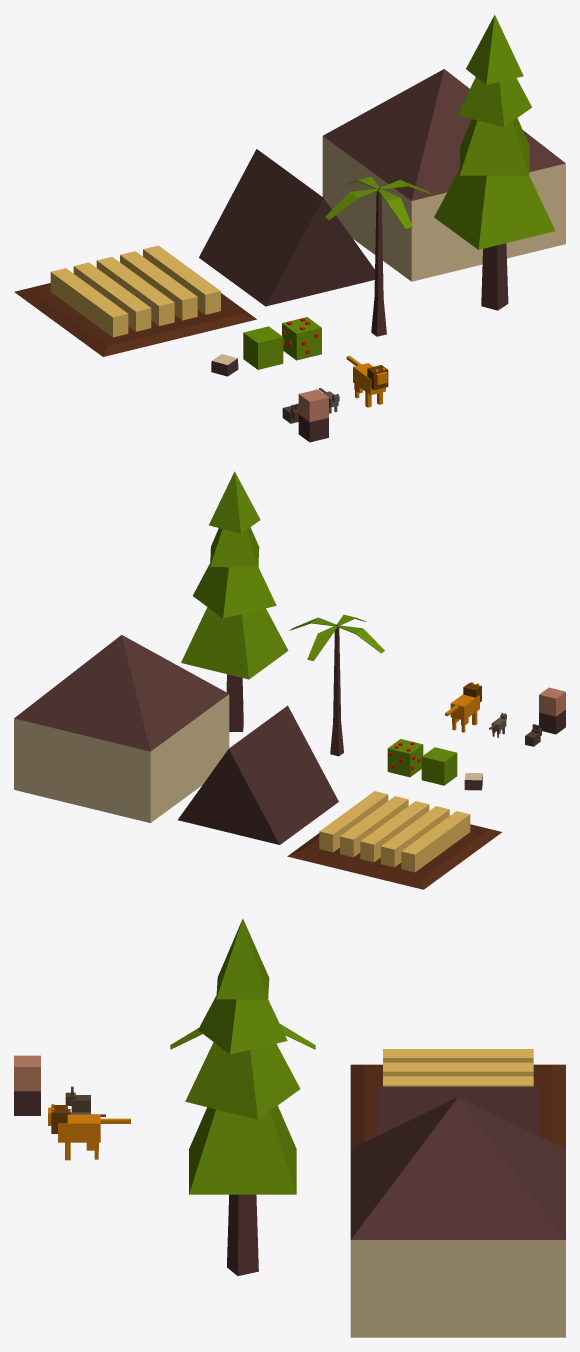
Rendered from simpleRTS.fbx.
3 renders of one model, top to bottom at view 1: azimuth 30°, elevation 25°; view 2: azimuth 150°, elevation 25°; view 3: azimuth 270°, elevation 25°, orthographic. The views are drawn at different scales.
Visible parts, largest first — view 1: Base, Tree, Tent, WheatField, PalmTree, Bush, Human, BerryBush, Lion; view 2: Base, Tree, Tent, WheatField, PalmTree, Bush, BerryBush, Human, Lion; view 3: Base, Tree, WheatField, Tent, Lion, Human.
Boxes of the visible parts, x1,y1,x2,y2 form: Base: [322, 69, 565, 281]; Tree: [434, 15, 555, 310]; Tent: [199, 149, 374, 306]; WheatField: [14, 245, 256, 356]; PalmTree: [325, 176, 432, 336]; Bush: [243, 326, 283, 369]; Human: [298, 389, 328, 442]; BerryBush: [282, 317, 321, 360]; Lion: [346, 355, 388, 407]; Base: [14, 635, 229, 822]; Tree: [181, 471, 288, 731]; Tent: [178, 705, 338, 844]; WheatField: [287, 791, 501, 889]; PalmTree: [289, 614, 384, 756]; Bush: [421, 747, 457, 785]; BerryBush: [387, 739, 423, 777]; Human: [539, 687, 565, 734]; Lion: [445, 682, 481, 732]; Base: [350, 1097, 565, 1337]; Tree: [185, 918, 300, 1275]; WheatField: [350, 1049, 565, 1148]; Tent: [377, 1086, 538, 1135]; Lion: [48, 1104, 130, 1160]; Human: [14, 1055, 40, 1115].
Size of the model in its own units: 1200 by 721 by 1025.
